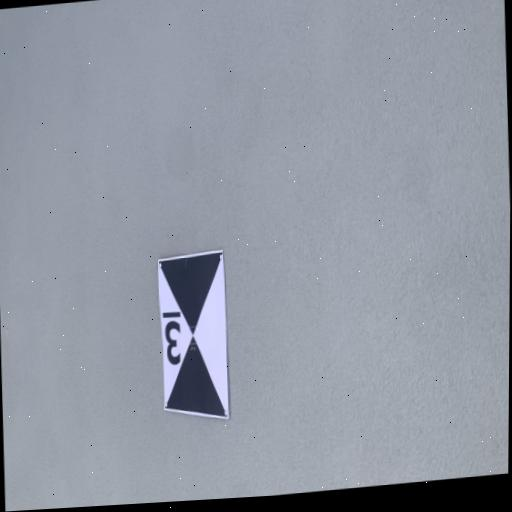target3: (156, 247, 231, 419)
